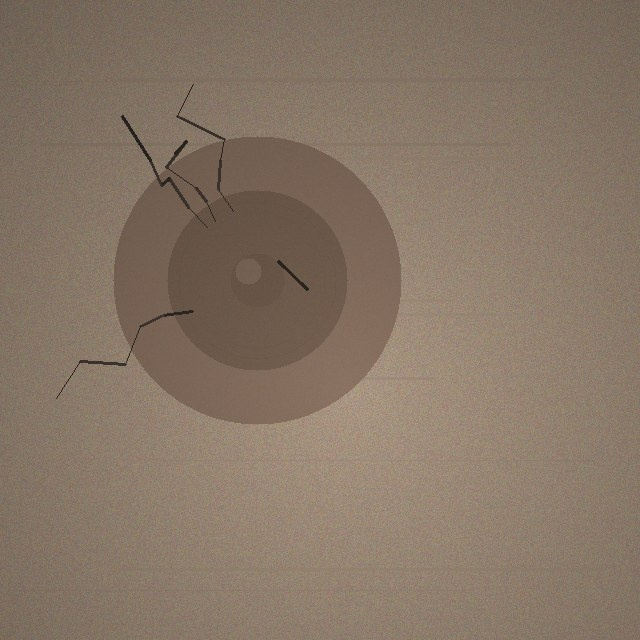crack: (113, 136, 401, 424)
